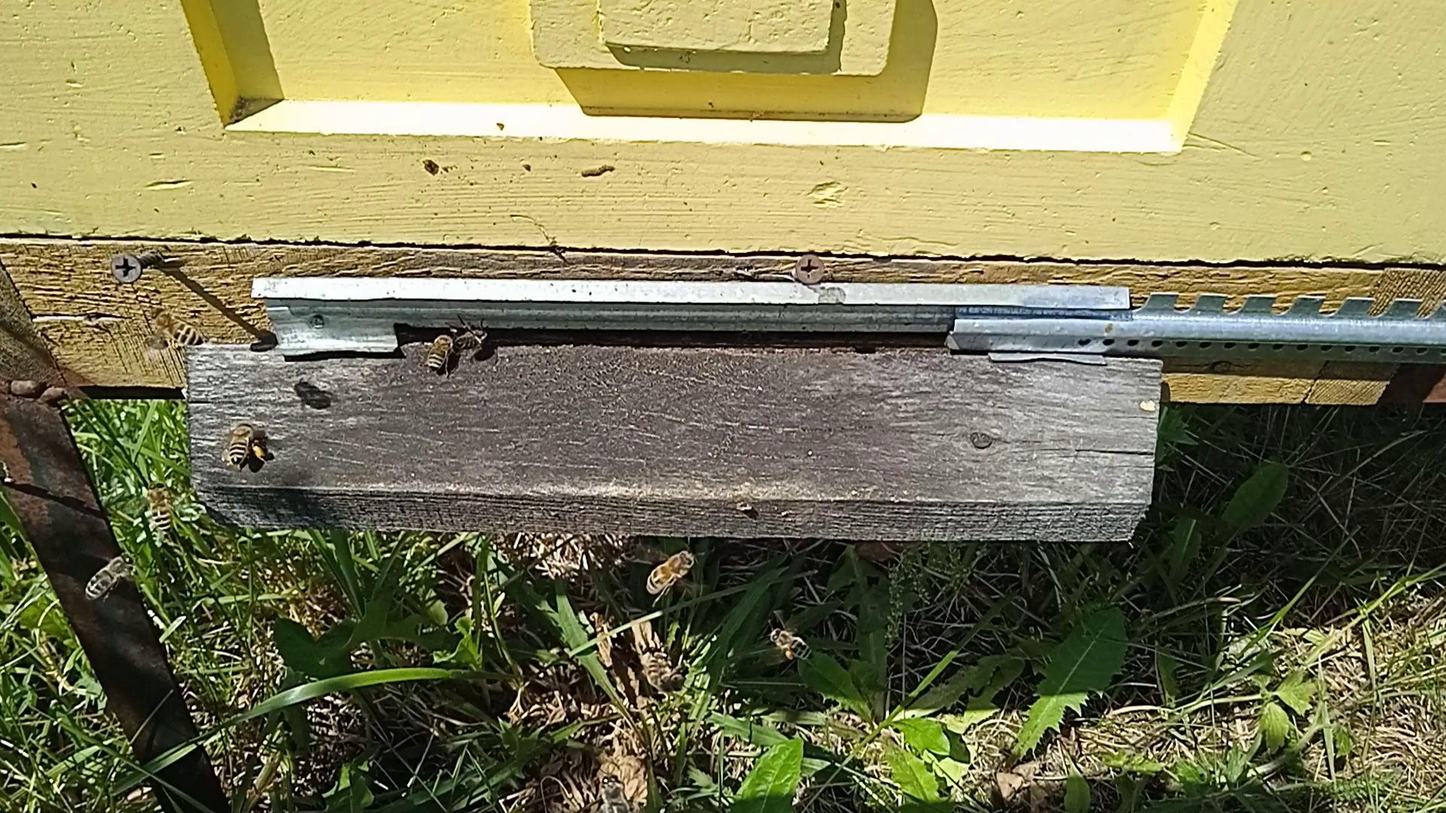worker-bee: (83, 552, 133, 601), (645, 550, 698, 595), (151, 308, 206, 346), (142, 480, 172, 532), (422, 330, 458, 373), (225, 420, 257, 465), (646, 656, 682, 692), (769, 629, 811, 659), (600, 775, 632, 813), (453, 324, 493, 353)
